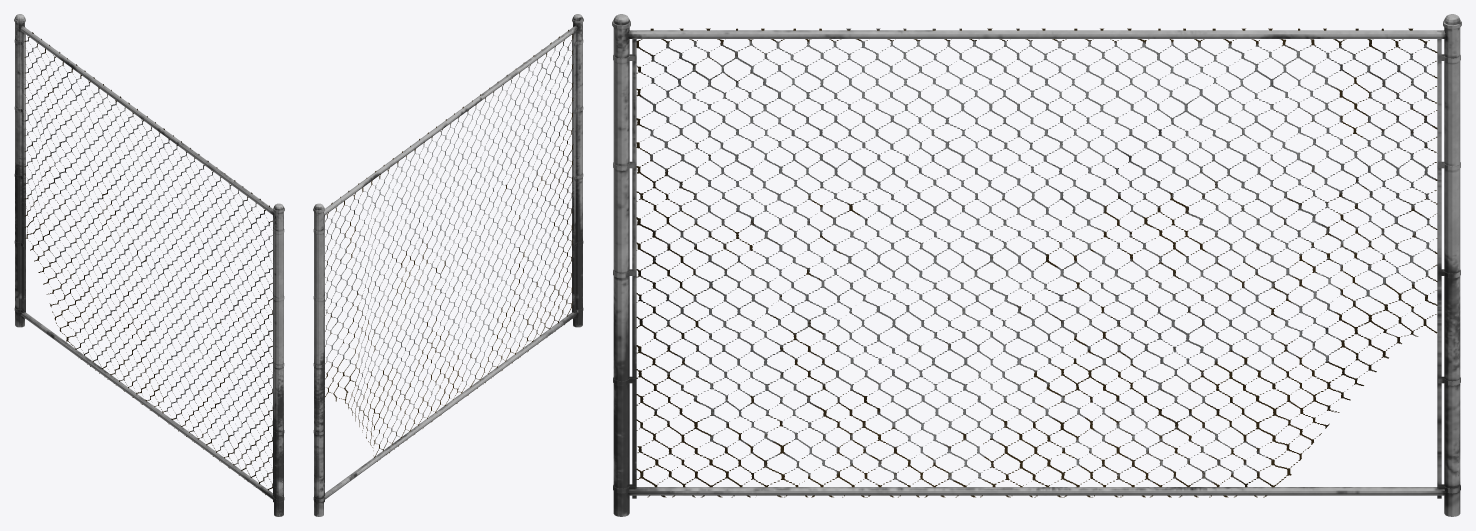
The model's file is Rejas3.fbx.
3 renders of one model, left to right at view 1: azimuth 30°, elevation 25°; view 2: azimuth 150°, elevation 25°; view 3: azimuth 270°, elevation 25°, orthographic. The views are drawn at different scales.
Parts seen in each view (by area): view 1: Plane.002, Cylinder.003, Cylinder.005, Cube.001, Cylinder.004; view 2: Plane.002, Cylinder.003, Cylinder.005, Cube.001, Cylinder.004; view 3: Plane.002, Cylinder.003, Cylinder.005, Cube.001, Cylinder.004.
Part boxes in pixels (x1=…): Plane.002: x1=24, y1=32, x2=272, y2=494; Cylinder.003: x1=14, y1=14, x2=284, y2=516; Cylinder.005: x1=20, y1=26, x2=273, y2=499; Cube.001: x1=22, y1=27, x2=273, y2=502; Cylinder.004: x1=14, y1=40, x2=284, y2=502; Plane.002: x1=325, y1=30, x2=573, y2=461; Cylinder.003: x1=313, y1=14, x2=583, y2=516; Cylinder.005: x1=324, y1=26, x2=577, y2=499; Cube.001: x1=324, y1=27, x2=575, y2=502; Cylinder.004: x1=313, y1=40, x2=583, y2=502; Plane.002: x1=636, y1=28, x2=1437, y2=497; Cylinder.003: x1=612, y1=14, x2=1461, y2=516; Cylinder.005: x1=628, y1=30, x2=1445, y2=495; Cube.001: x1=632, y1=30, x2=1441, y2=498; Cylinder.004: x1=613, y1=54, x2=1460, y2=493.
Size of the model in its own units: 10.72 by 206 by 318.
